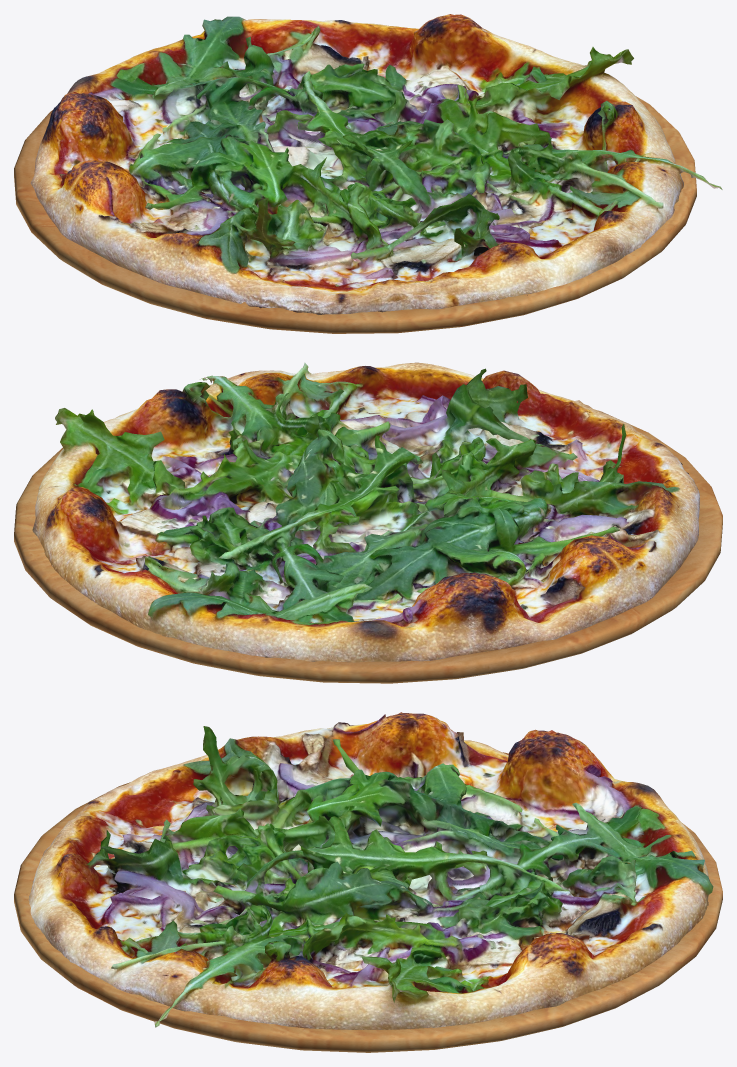
The model's file is Pizza.glb.
3 renders of one model, top to bottom at view 1: azimuth 30°, elevation 25°; view 2: azimuth 150°, elevation 25°; view 3: azimuth 270°, elevation 25°, orthographic. The views are drawn at different scales.
Visible parts, largest first — view 1: Mesh_0, Object_2; view 2: Mesh_0, Object_2; view 3: Mesh_0, Object_2.
Boxes of the visible parts, box(x1,y1,x2,y2) form: Mesh_0: box(30, 14, 722, 314); Object_2: box(14, 96, 696, 333); Mesh_0: box(32, 362, 699, 662); Object_2: box(14, 411, 722, 683); Mesh_0: box(28, 712, 713, 1029); Object_2: box(14, 752, 722, 1052).
Size of the model in its own units: 0.2986 by 0.048 by 0.2987.
Materials: 2 (2 with a texture image).
